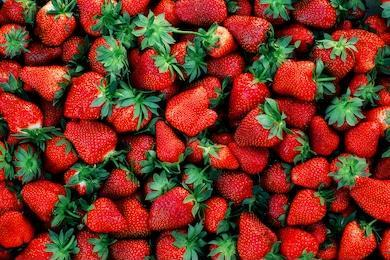Fresa: (330, 22, 387, 75), (165, 84, 218, 139), (64, 115, 119, 167), (270, 56, 326, 105), (231, 103, 284, 154), (146, 183, 199, 233), (18, 177, 69, 228), (61, 70, 112, 121), (232, 207, 281, 260), (226, 68, 272, 123), (18, 62, 74, 106), (104, 85, 153, 134), (130, 46, 177, 94), (222, 13, 275, 55), (1, 90, 45, 140), (349, 173, 390, 226), (33, 1, 78, 46), (81, 196, 130, 237), (284, 186, 330, 228), (335, 216, 378, 260), (288, 153, 336, 191), (87, 34, 128, 78), (152, 116, 188, 166), (214, 166, 258, 206), (341, 118, 382, 160), (277, 223, 322, 260), (96, 163, 140, 200), (307, 113, 343, 157), (202, 22, 239, 60), (201, 142, 243, 173), (260, 159, 294, 194)
